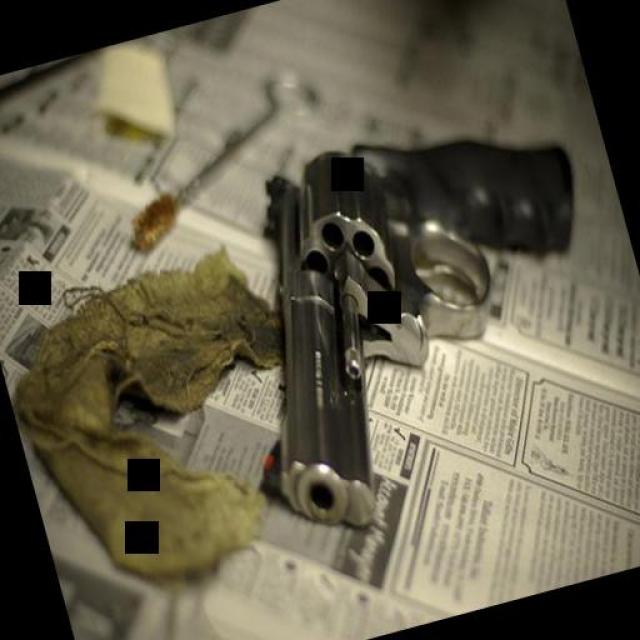gun: (181, 88, 640, 542)
